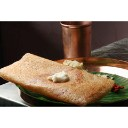dosa: (1, 50, 116, 106)
